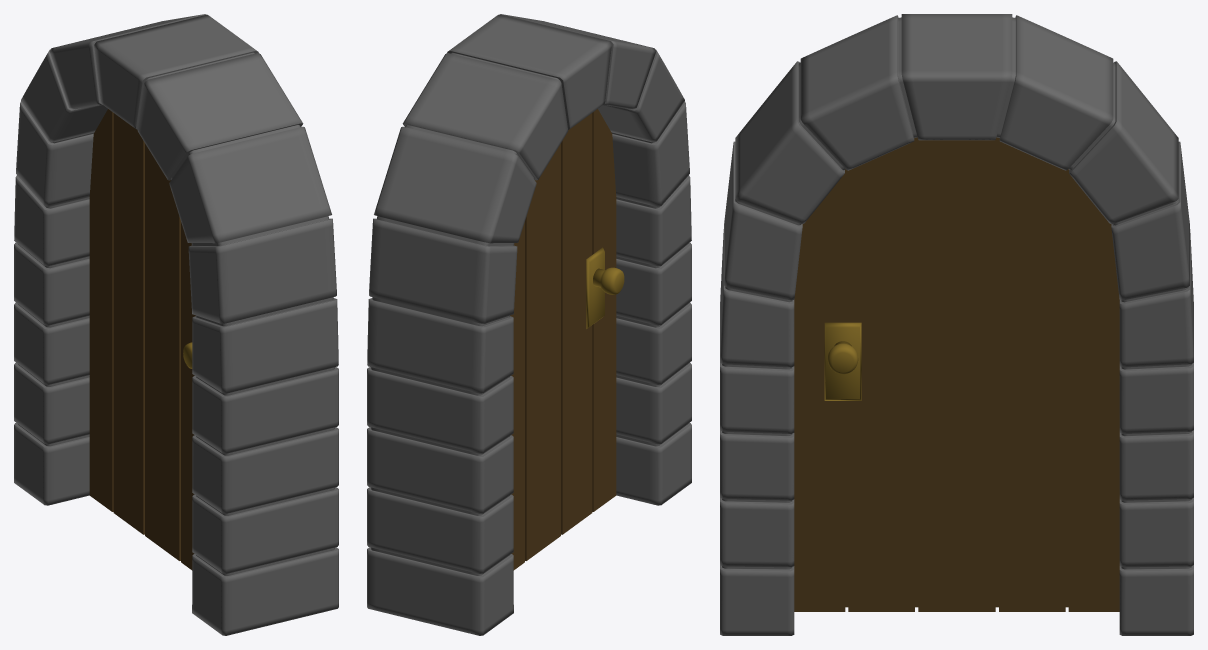
File: dnd_tiling_model_door.fbx
The picture shows the model from 3 angles, left to right: view 1: azimuth 30°, elevation 25°; view 2: azimuth 150°, elevation 25°; view 3: azimuth 270°, elevation 25°; orthographic projection. The views are drawn at different scales.
Parts seen in each view (by area): view 1: Stone Threshold, Door; view 2: Stone Threshold, Door; view 3: Door, Stone Threshold.
Boxes of the visible parts, x1=… form: Stone Threshold: x1=14, y1=14, x2=338, y2=635; Door: x1=89, y1=109, x2=195, y2=570; Stone Threshold: x1=367, y1=14, x2=691, y2=635; Door: x1=510, y1=109, x2=624, y2=570; Door: x1=794, y1=137, x2=1119, y2=611; Stone Threshold: x1=720, y1=14, x2=1193, y2=635.
Size of the model in its own units: 48.73 by 200 by 153.
